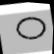no answer: (10, 12, 48, 47)
